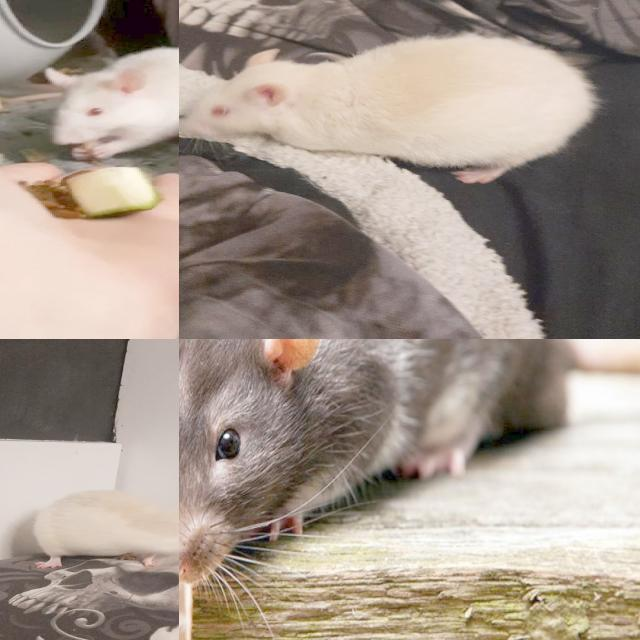rat: (179, 339, 544, 579), (179, 33, 591, 180), (42, 48, 179, 160), (25, 480, 179, 571)
